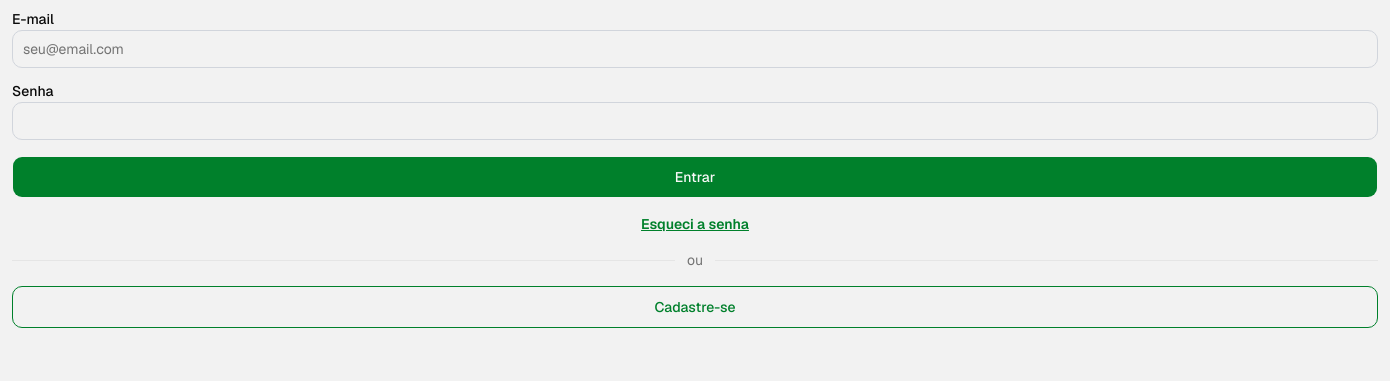
Test: LoginForm › submission › shows server error message returned by action
This screenshot has width=1390, height=381.
Step 1. Type "admin@example.com" into the field labelled "E-mail" → (695, 49), box [12,30,1378,68]
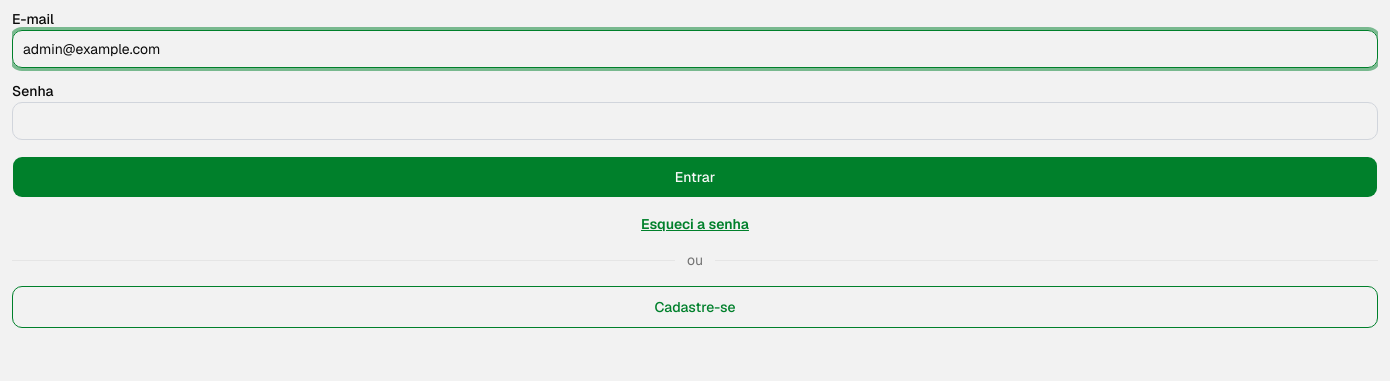
Step 2. Type "wrongpassword" into the password field labelled "Senha" → (695, 121), box [12,102,1378,140]
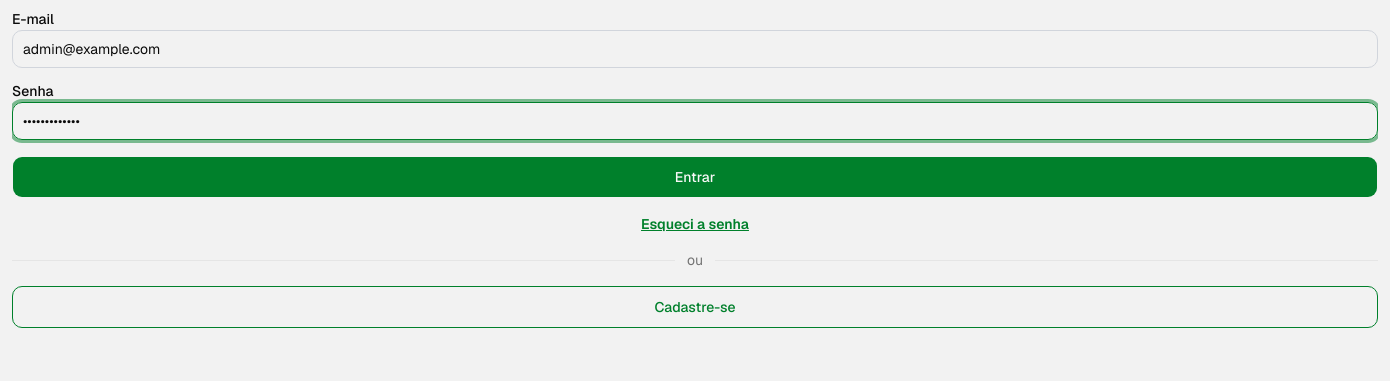
Step 3. Click the button "Entrar" → click(695, 177), box [12,156,1378,198]
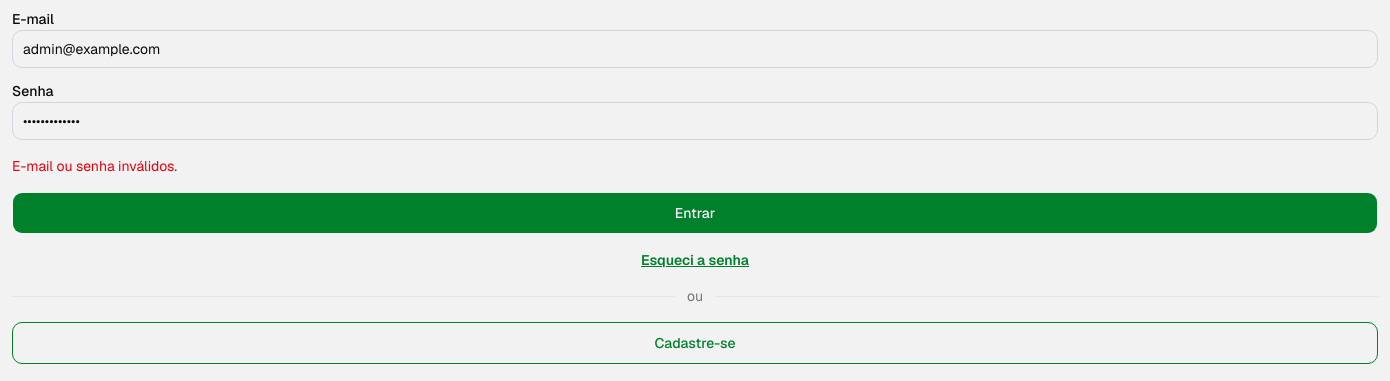
Now the text "E-mail ou senha inválidos." is shown, box [12,157,177,175]
